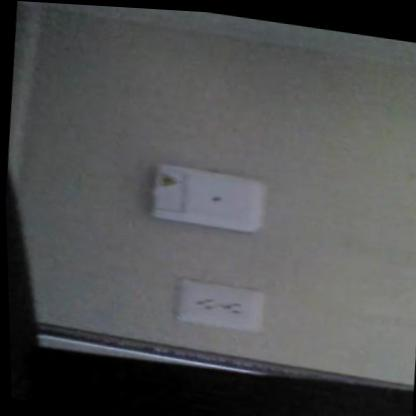OUTLET: (176, 279, 267, 332)
